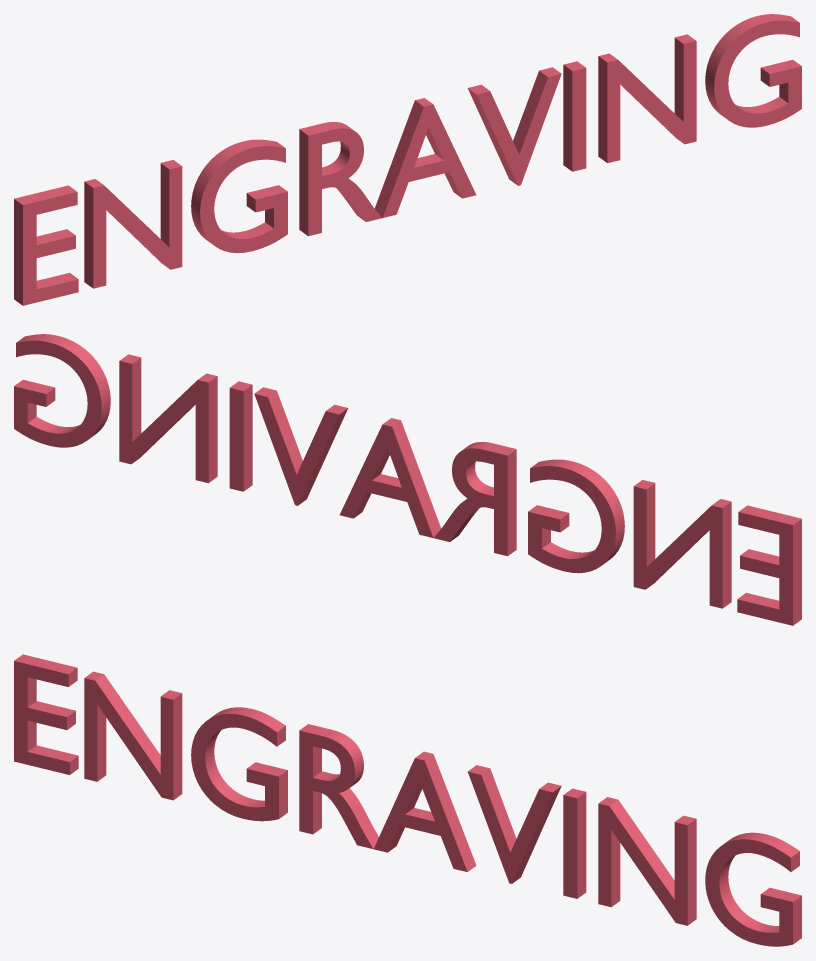
Rendered from engraving.gltf.
3 renders of one model, top to bottom at view 1: azimuth 30°, elevation 25°; view 2: azimuth 150°, elevation 25°; view 3: azimuth 330°, elevation 25°, orthographic.
Visible parts, largest first — view 1: Text; view 2: Text; view 3: Text.
Boxes of the visible parts, bbox=[...] form: Text: bbox=[14, 14, 801, 305]; Text: bbox=[14, 334, 801, 625]; Text: bbox=[14, 654, 801, 946].
Bounding box in the file's own units: 5.52 × 0.7 × 0.11.
